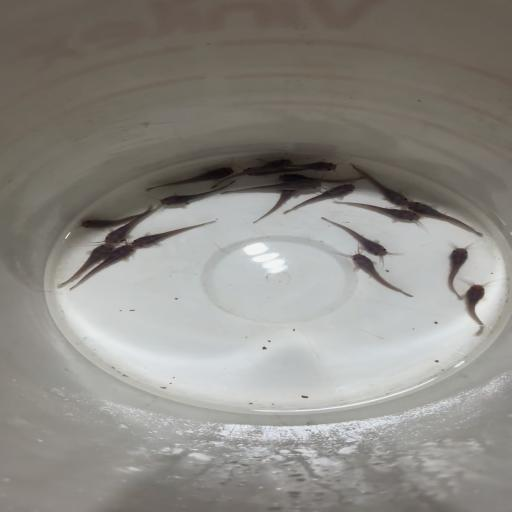lele: (319, 216, 405, 263), (71, 244, 138, 298), (340, 251, 416, 298), (47, 242, 113, 293), (406, 197, 485, 239), (130, 219, 218, 255), (98, 203, 165, 247), (138, 166, 234, 196), (349, 162, 414, 206), (281, 184, 359, 220), (331, 200, 426, 229), (152, 179, 238, 211), (207, 158, 293, 188), (73, 206, 153, 235), (216, 179, 323, 198), (459, 278, 493, 337), (443, 241, 473, 302), (253, 190, 298, 226), (275, 172, 364, 186), (292, 158, 340, 173), (237, 165, 301, 176)
